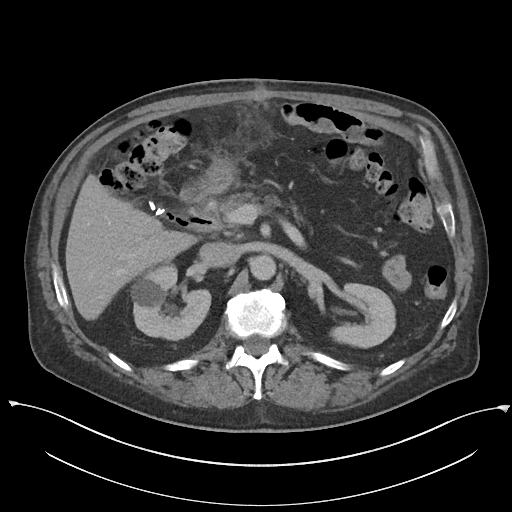Lesion: (129, 274, 170, 315)
